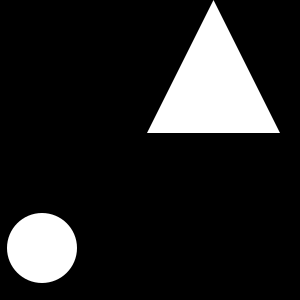rectangle: (7, 213, 77, 283)
triangle: (147, 0, 280, 133)
